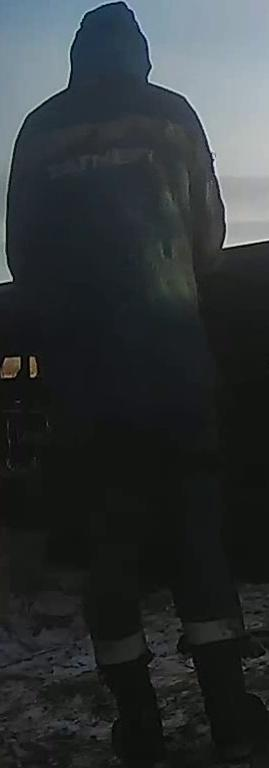vest: (10, 77, 230, 418)
